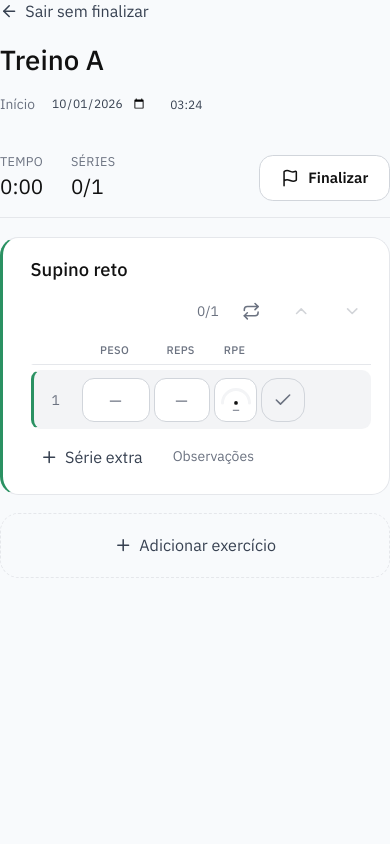
completing a set with no reps or weight recorded › does nothing when 'Voltar' is pressed
The width and height of the screenshot is (390, 844).
Check: the heading "Treino A" is shown, box [0,42,104,78]
Click the button named "Concluir série 1 de Supino reto" at (284, 400), box [262,378,306,422]
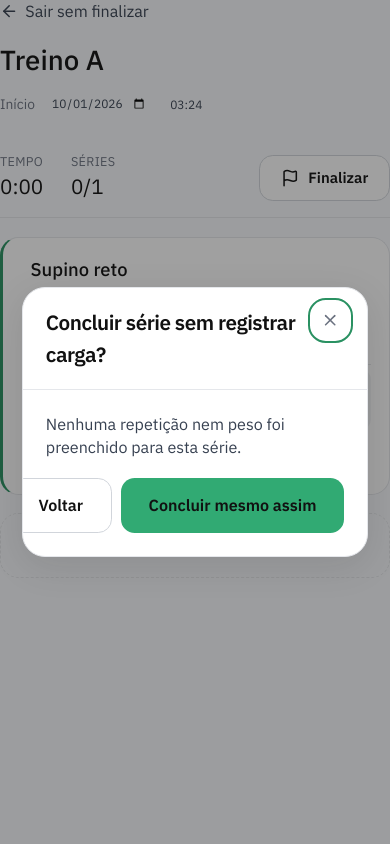
Click the button "Voltar" at (61, 505), box [10,478,112,533]
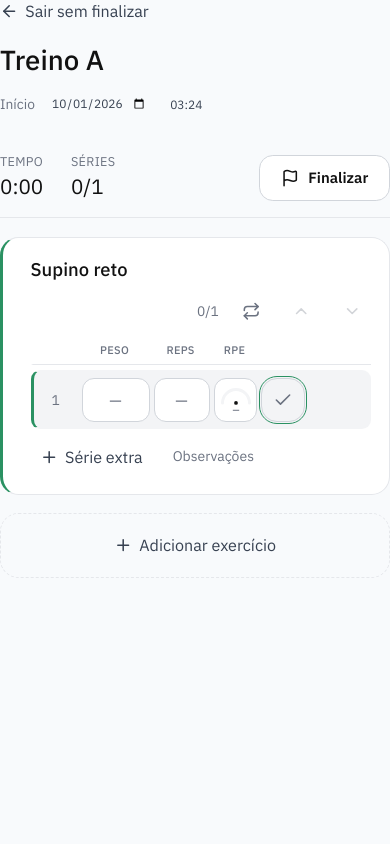
Check: the heading "Concluir série sem registrar carga?" is gone
